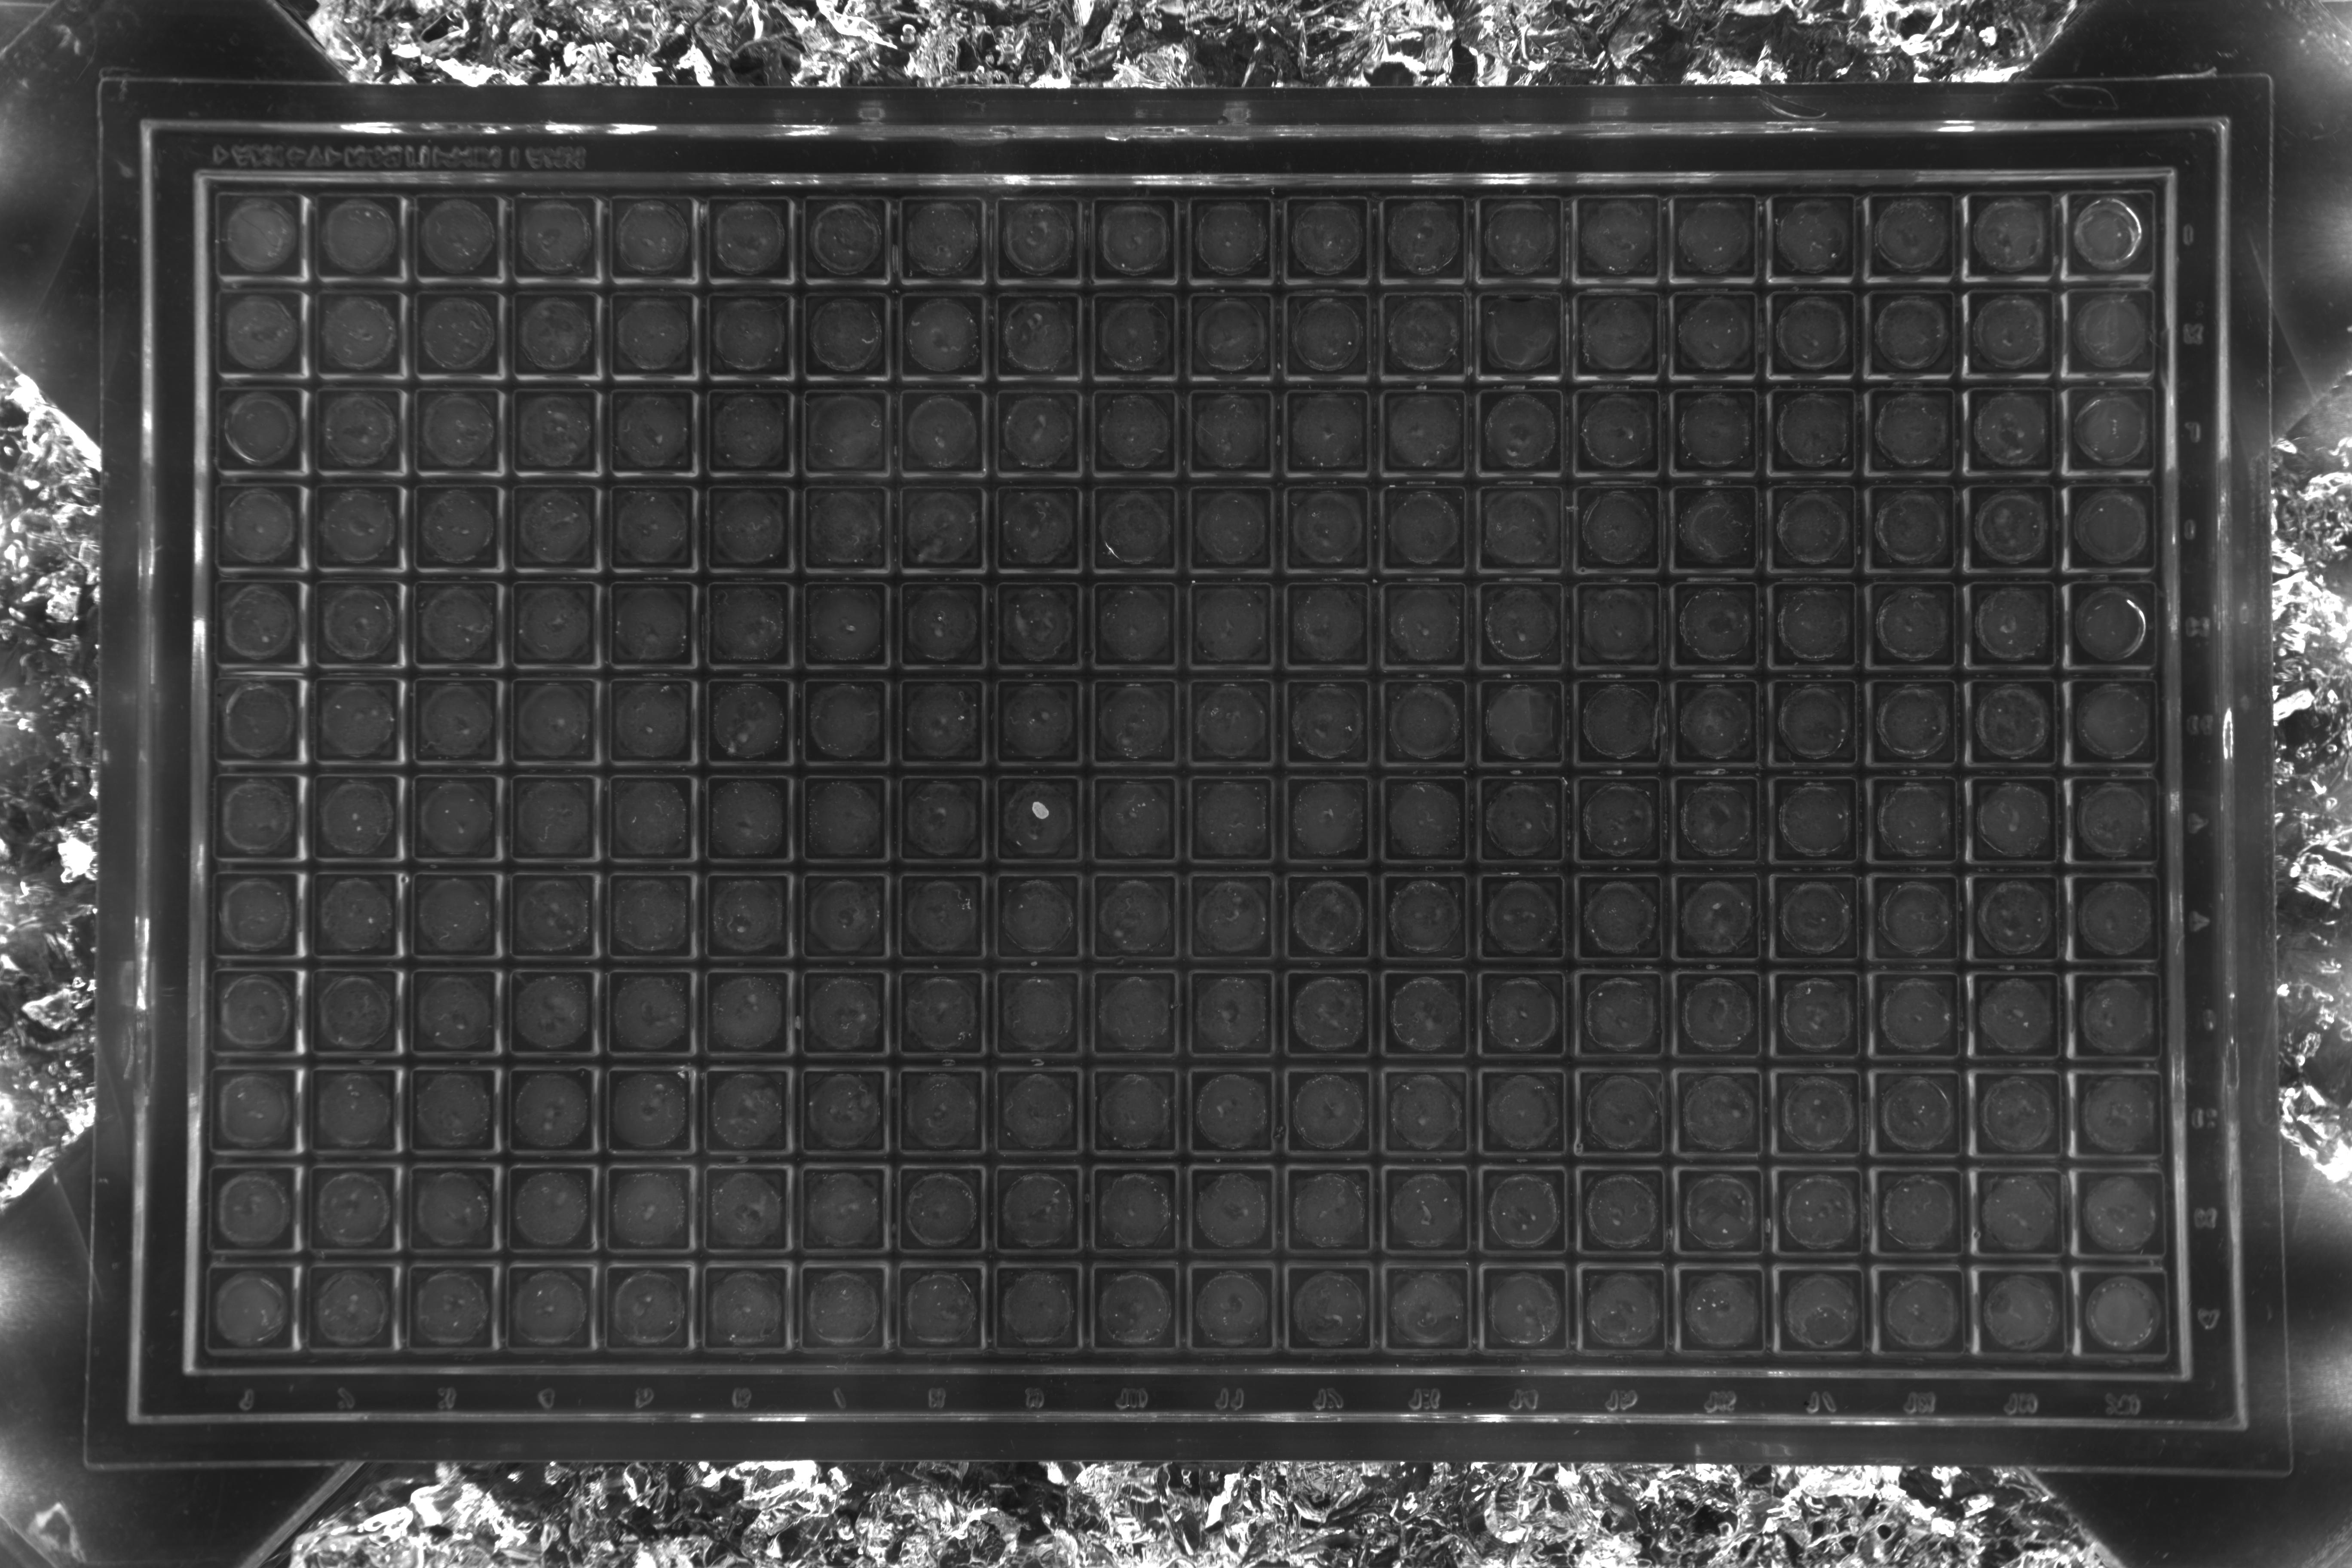WM_well: (201, 845, 290, 933), (397, 847, 486, 934), (492, 1043, 581, 1130), (588, 1143, 677, 1230), (595, 460, 684, 548), (303, 264, 390, 352), (390, 1242, 478, 1330), (497, 749, 584, 836), (693, 460, 780, 548), (787, 947, 875, 1034), (1078, 1239, 1165, 1326), (1080, 1045, 1167, 1132), (1176, 1045, 1263, 1132), (1466, 656, 1554, 744), (1468, 1046, 1556, 1134), (1470, 1342, 1557, 1430), (1563, 366, 1650, 453), (1563, 464, 1650, 551), (1568, 1344, 1655, 1431), (1664, 1048, 1752, 1136), (1666, 1148, 1753, 1235), (1762, 852, 1850, 940), (1857, 366, 1944, 453), (1956, 560, 2044, 647), (2063, 1253, 2151, 1340)
